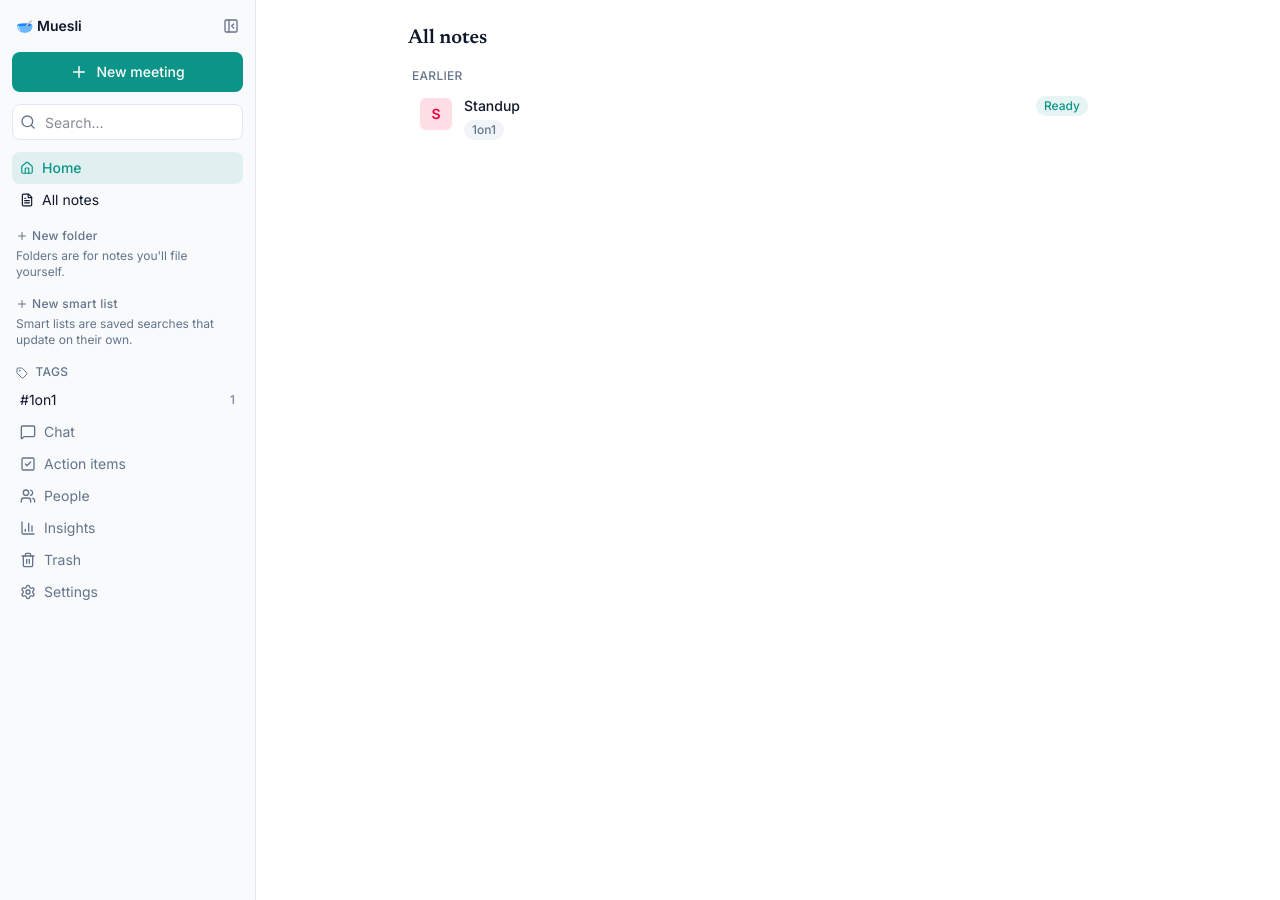
it: AppLayout tag → Save as smart list › right-clicking a tag and choosing "Save as smart list" opens a seeded create editor
This screenshot has width=1280, height=900.
Expected: the text "Standup" is shown, left=464, top=97, right=520, bottom=114
Right-click the button "#1on1 1".
right_click(128, 400)  # box left=12, top=384, right=243, bottom=416
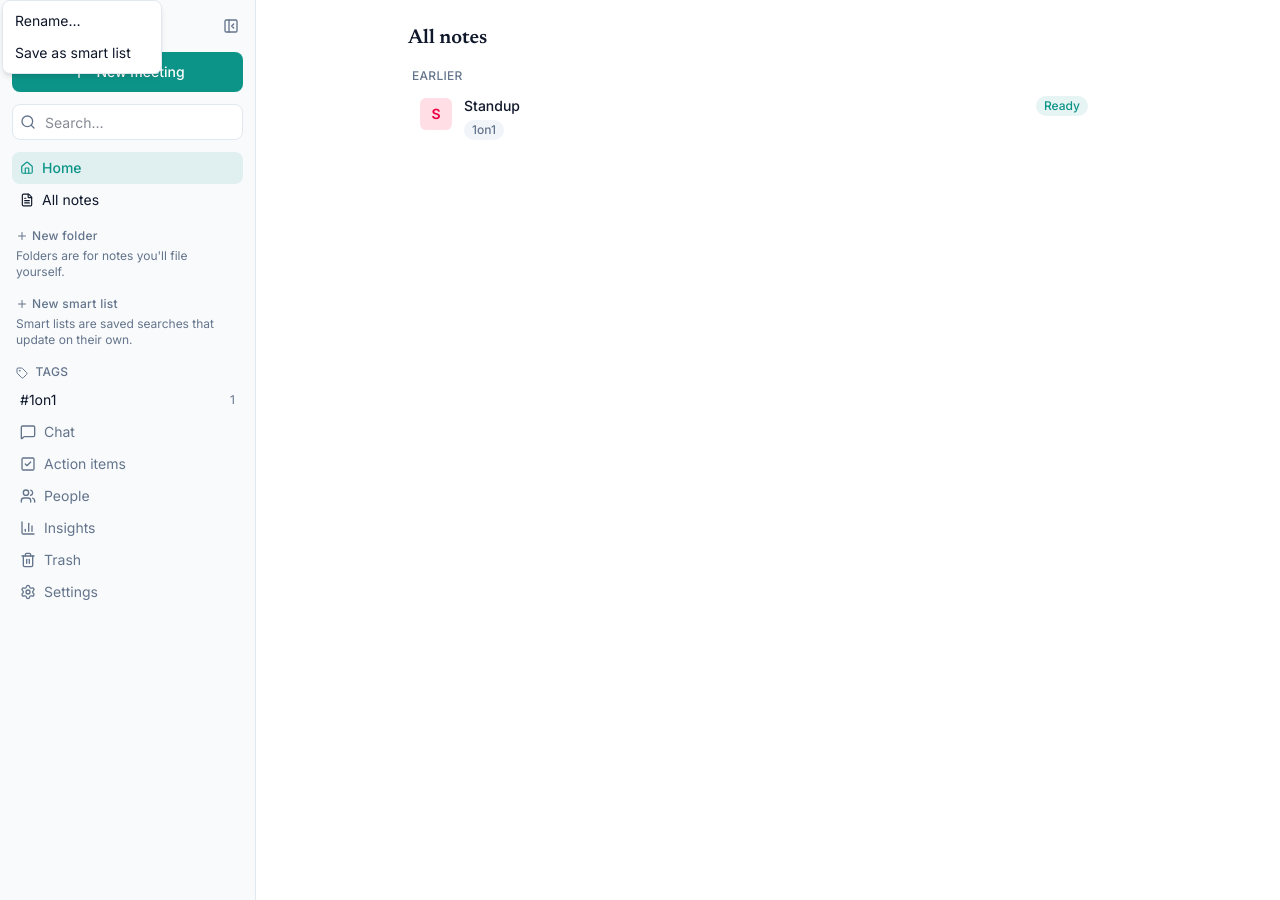
Click the menu item "Save as smart list".
click(73, 52)  # box left=15, top=44, right=131, bottom=61
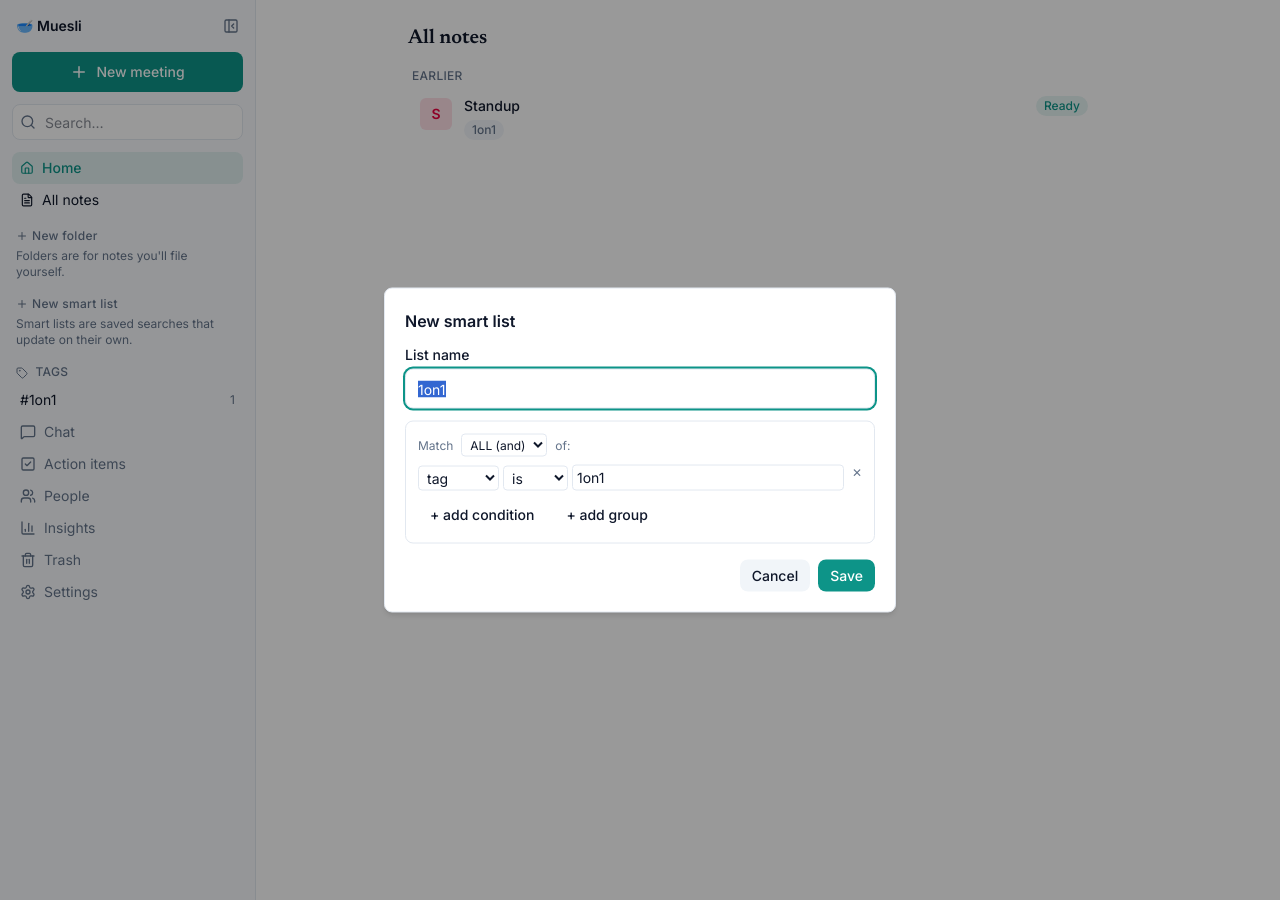
Expected: the field labelled "List name" holds "1on1", left=405, top=368, right=875, bottom=408
Expected: the dialog shows "New smart list", left=405, top=310, right=515, bottom=330
